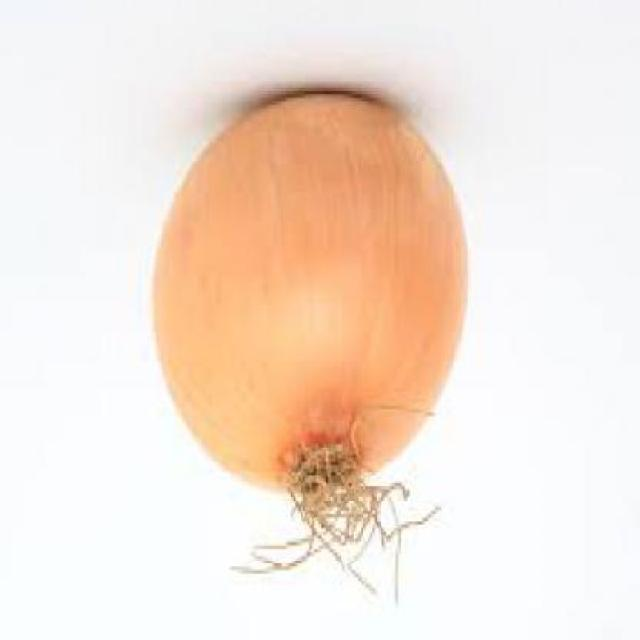BIODEGRADABLE: (156, 95, 472, 619)
